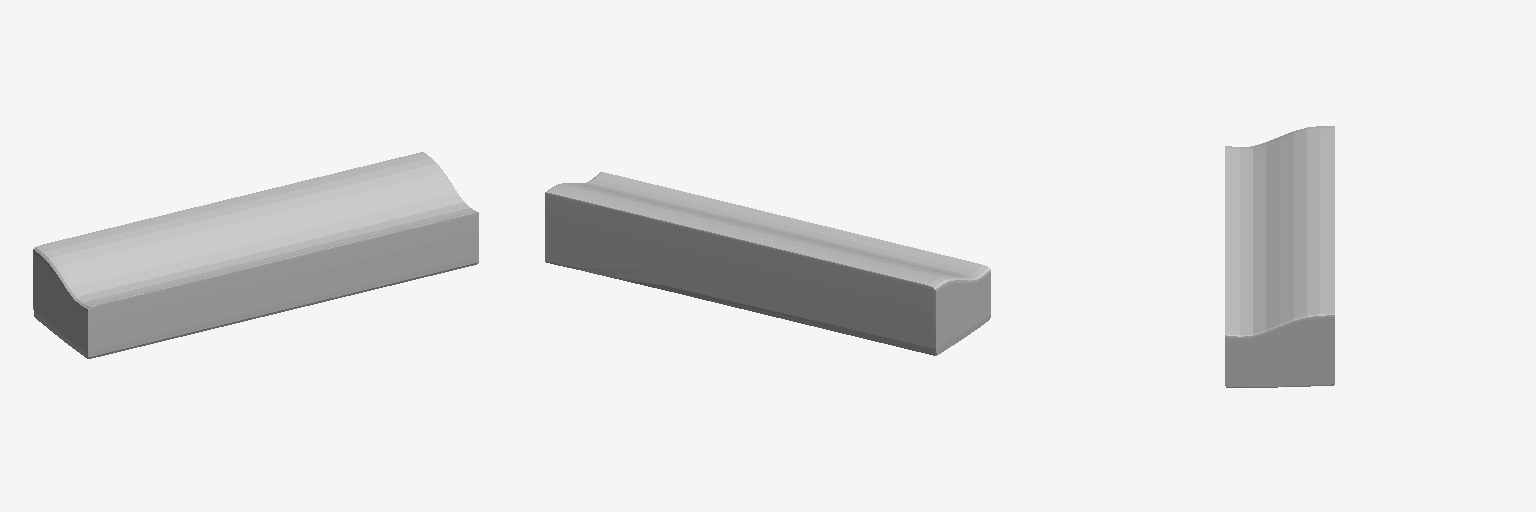
File: Tile_Cuesta_Derecha_Tierra.obj
3 renders of one model, left to right at view 1: azimuth 30°, elevation 25°; view 2: azimuth 150°, elevation 25°; view 3: azimuth 270°, elevation 25°, orthographic.
Parts seen in each view (by area): view 1: Cube.005; view 2: Cube.005; view 3: Cube.005.
Boxes of the visible parts, box(x1,y1,x2,y2) form: Cube.005: box(33, 152, 478, 358); Cube.005: box(545, 172, 990, 355); Cube.005: box(1225, 126, 1334, 387).
Size of the model in its own units: 40.74 by 7.31 by 10.